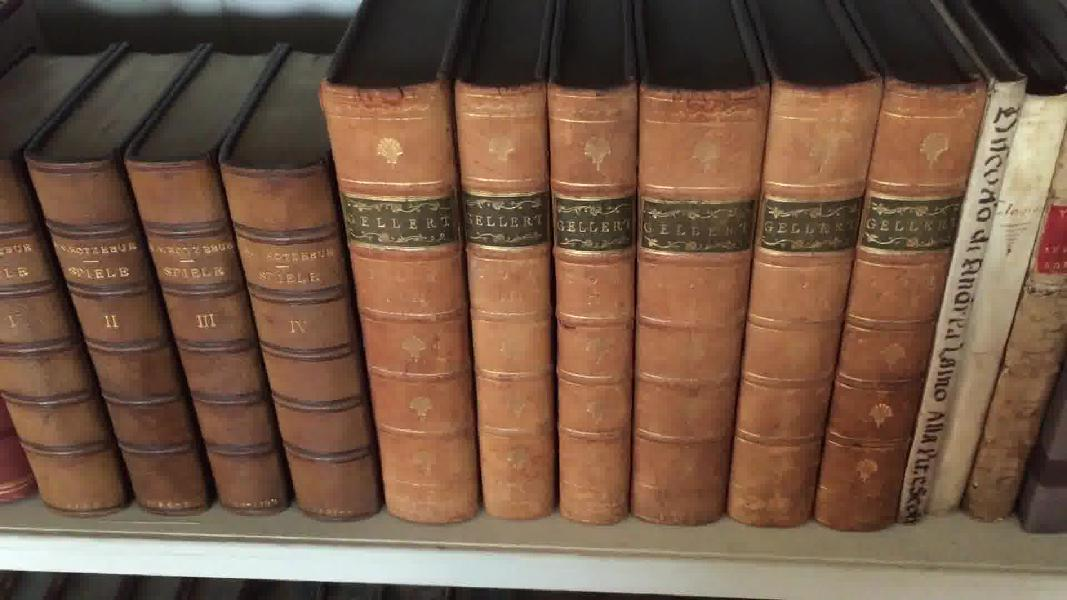Aa6-14_17: (1, 131, 398, 532)
Aa6-18_23: (327, 65, 986, 536)
Aa6-24: (898, 54, 1024, 547)
Aa6-25: (921, 39, 1050, 546)
